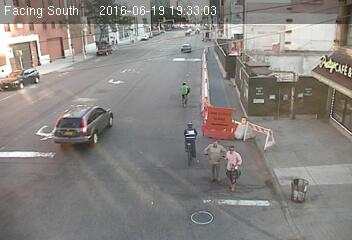neg: (35, 93, 86, 161), (175, 120, 207, 164), (245, 105, 267, 134), (283, 81, 303, 107)
pos: (216, 142, 252, 190), (195, 137, 228, 181)
